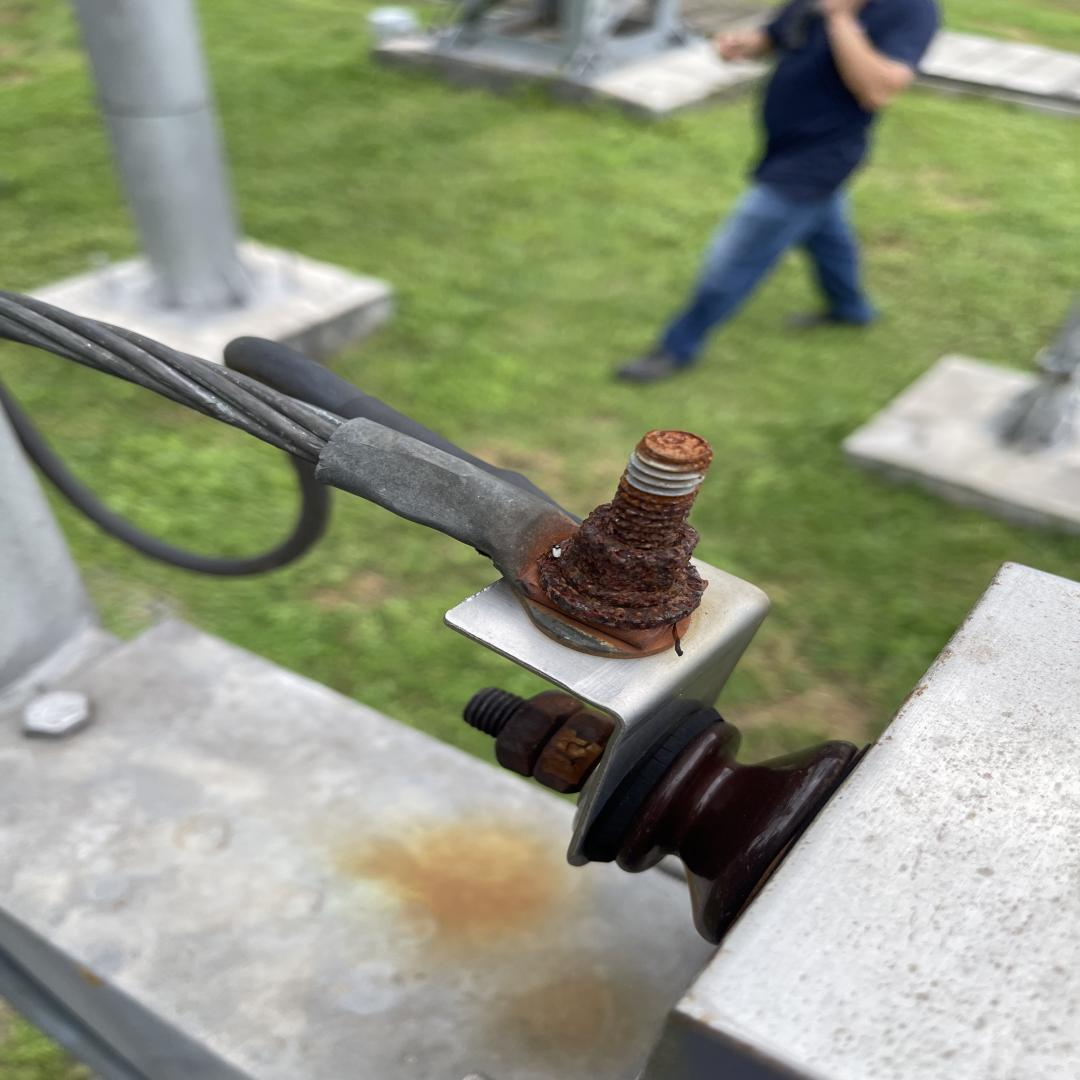Metal: (640, 563, 1080, 1080), (442, 564, 772, 863), (626, 449, 704, 496)
Metal corroido: (511, 430, 713, 660), (495, 687, 618, 793)
